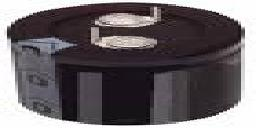Electrolytic-Capacitor: (5, 2, 251, 128)
